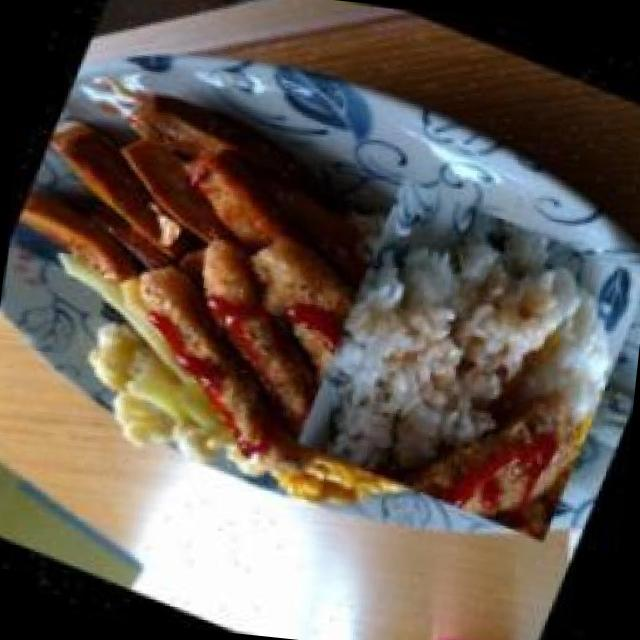rice: (279, 165, 640, 547)
